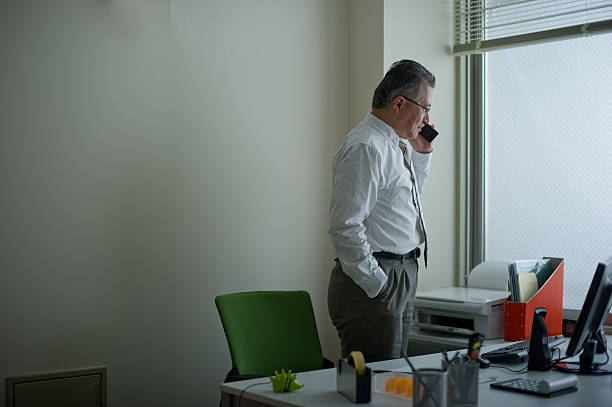phone: (418, 113, 444, 148)
